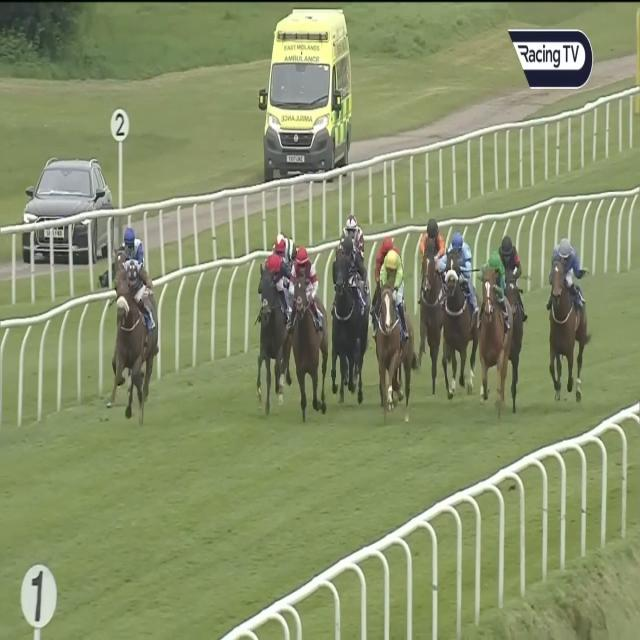horses-racing: (111, 257, 169, 407), (544, 238, 593, 394), (249, 252, 286, 412), (329, 235, 362, 407), (376, 252, 409, 410), (479, 249, 510, 393), (291, 243, 318, 395), (499, 236, 527, 377), (447, 238, 471, 390), (419, 218, 438, 384), (371, 231, 403, 283), (115, 230, 144, 287), (268, 228, 299, 266), (339, 212, 366, 246)
